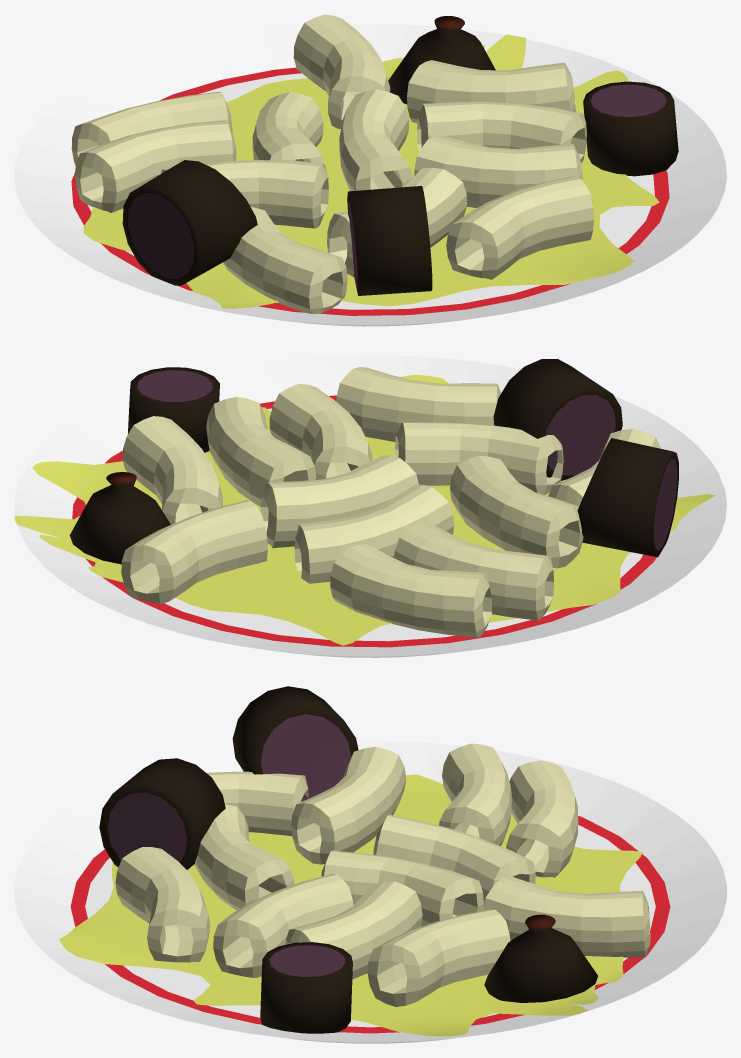
Rendered from plated_egged_dogged_mac.fbx.
3 renders of one model, top to bottom at view 1: azimuth 30°, elevation 25°; view 2: azimuth 150°, elevation 25°; view 3: azimuth 270°, elevation 25°, orthographic.
Visible parts, largest first — view 1: Noodles, Plate, HotdogSlice, Cheese; view 2: Noodles, Plate, HotdogSlice, Cheese; view 3: Noodles, Plate, HotdogSlice, Cheese.
Boxes of the visible parts, x1=… form: Noodles: x1=71, y1=14, x2=593, y2=314; Plate: x1=14, y1=24, x2=726, y2=326; HotdogSlice: x1=122, y1=16, x2=678, y2=295; Cheese: x1=83, y1=34, x2=659, y2=308; Noodles: x1=121, y1=367, x2=661, y2=637; Plate: x1=14, y1=355, x2=726, y2=657; HotdogSlice: x1=69, y1=359, x2=678, y2=564; Cheese: x1=14, y1=375, x2=715, y2=645; Noodles: x1=115, y1=743, x2=650, y2=1006; Plate: x1=14, y1=741, x2=726, y2=1043; HotdogSlice: x1=99, y1=686, x2=597, y2=1033; Cheese: x1=59, y1=774, x2=642, y2=1036.
Size of the model in its own units: 56.7 by 10.41 by 56.7.
